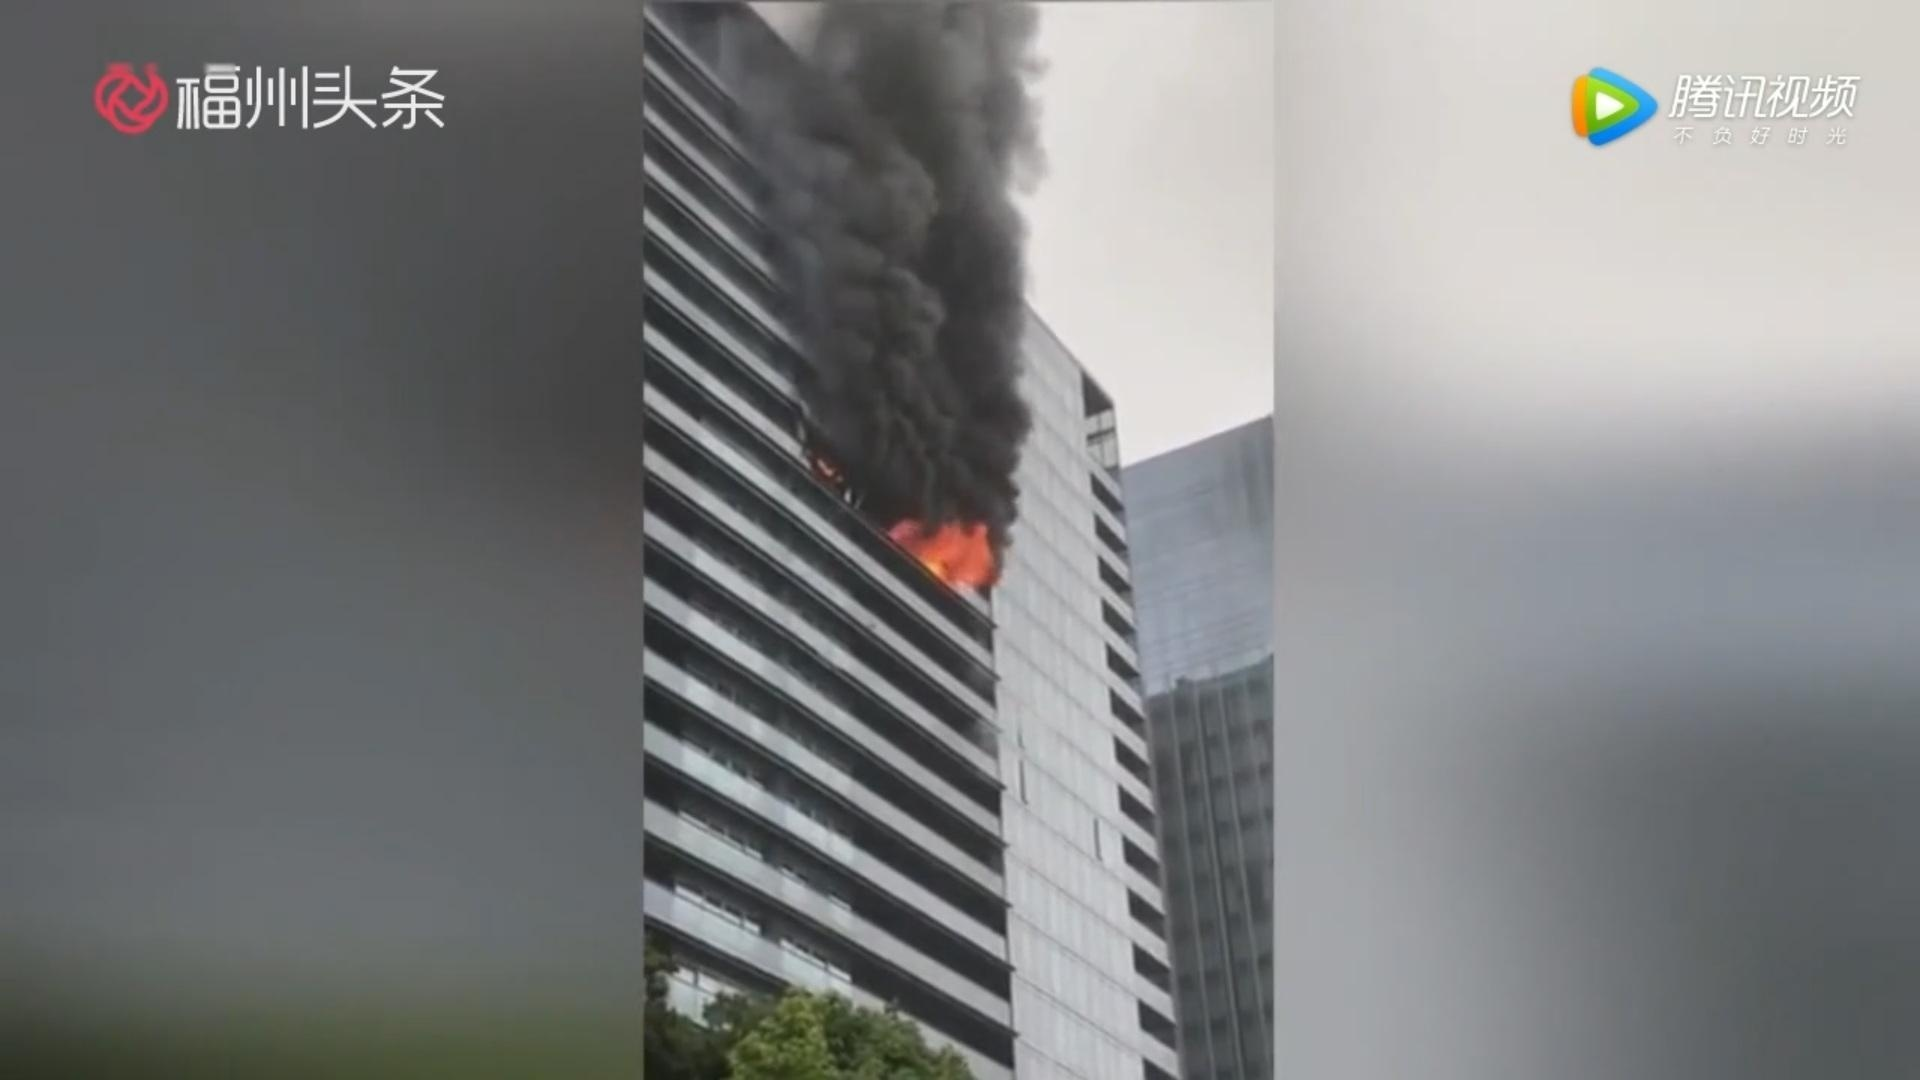fire: (895, 516, 1000, 587)
